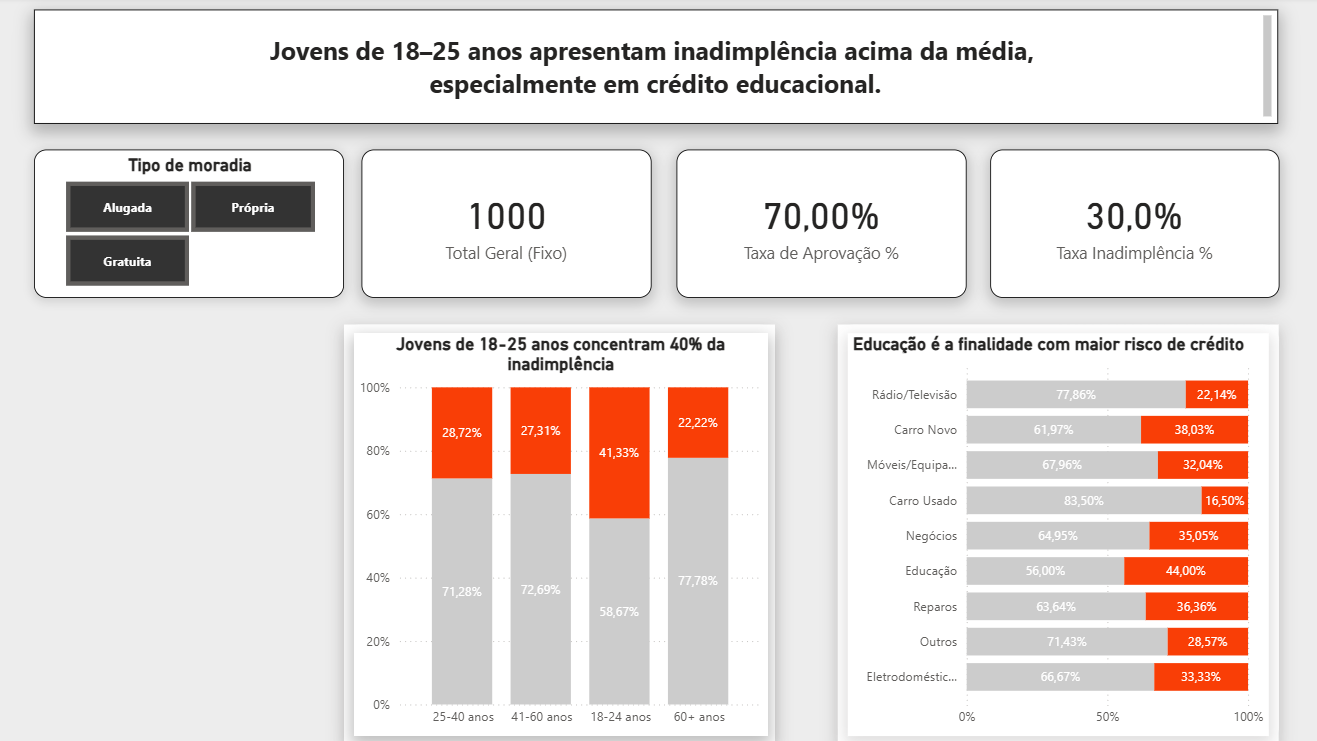

Layout of this report page (visuals, bound fields, positions):
{"tool":"powerbi","page":{"name":"Página 1","canvas":[1280,720],"ordinal":0},"visuals":[{"type":"shape","box":[809.5,315.8,425.9,404.2],"z":0},{"type":"shape","box":[333,315.8,416.2,404.2],"z":1000},{"type":"hundredPercentStackedColumnChart","title":"Jovens de 18-25 anos concentram 40% da inadimplência","fields":{"Category":["tb_analise_final_credito.faixa_etaria"],"Y":["CountNonNull(tb_analise_final_credito.status_credito)"],"Series":["tb_analise_final_credito.desc_status_credito"]},"box":[342.6,324.5,399.3,388.5],"z":2000},{"type":"card","fields":{"Values":["tb_analise_final_credito.Total Geral (Fixo)"]},"box":[349.7,146.7,280,143.1],"z":3000},{"type":"card","fields":{"Values":["tb_analise_final_credito.Taxa Inadimplência %"]},"box":[956.3,146.7,278.8,143.1],"z":4000},{"type":"card","fields":{"Values":["tb_analise_final_credito.Taxa de Aprovação %"]},"box":[654.2,146.7,280,143.1],"z":5000},{"type":"hundredPercentStackedBarChart","title":"Educação é a finalidade com maior risco de crédito","fields":{"Category":["tb_analise_final_credito.categoria_finalidade"],"Y":["CountNonNull(tb_analise_final_credito.status_credito)"],"Series":["tb_analise_final_credito.desc_status_credito"]},"box":[819.2,324.5,406.6,388.5],"z":6000},{"type":"slicer","title":"Tipo de moradia","fields":{"Values":["tb_analise_final_credito.tipo_moradia"]},"box":[34.2,146.7,299.6,143.1],"z":7000},{"type":"textbox","box":[34.2,12.2,1200.8,110.1],"z":8000}]}

Visuals, with their boxes in screenshot pixels (x1, y1, x2, y2), scaled from the page's 1280x720 canvas onto the 1317x741 screenshot:
shape: (x1=833, y1=325, x2=1271, y2=740)
shape: (x1=343, y1=325, x2=771, y2=740)
"Jovens de 18-25 anos concentram 40% da inadimplência" hundredPercentStackedColumnChart: (x1=353, y1=334, x2=763, y2=734)
card - tb_analise_final_credito.Total Geral (Fixo): (x1=360, y1=151, x2=648, y2=298)
card - tb_analise_final_credito.Taxa Inadimplência %: (x1=984, y1=151, x2=1271, y2=298)
card - tb_analise_final_credito.Taxa de Aprovação %: (x1=673, y1=151, x2=961, y2=298)
"Educação é a finalidade com maior risco de crédito" hundredPercentStackedBarChart: (x1=843, y1=334, x2=1261, y2=734)
"Tipo de moradia" slicer: (x1=35, y1=151, x2=343, y2=298)
textbox: (x1=35, y1=13, x2=1271, y2=126)
